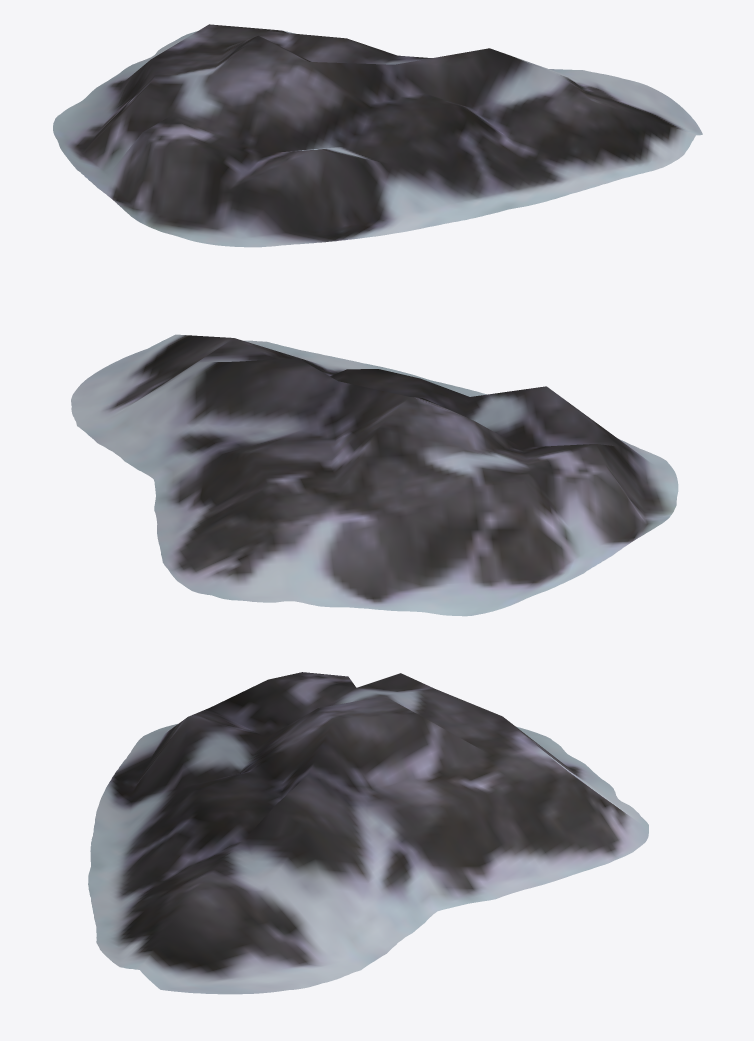
File: rzjd_zawu_02.FBX
The picture shows the model from 3 angles, top to bottom: view 1: azimuth 30°, elevation 25°; view 2: azimuth 150°, elevation 25°; view 3: azimuth 270°, elevation 25°; orthographic projection. The views are drawn at different scales.
Visible parts, largest first — view 1: rzjd_zawu_02; view 2: rzjd_zawu_02; view 3: rzjd_zawu_02.
Part boxes in pixels (x1,y1,x2,y2): rzjd_zawu_02: (53, 24, 702, 247); rzjd_zawu_02: (71, 334, 678, 616); rzjd_zawu_02: (88, 672, 648, 994).
Size of the model in its own units: 576 by 530 by 82.67.
